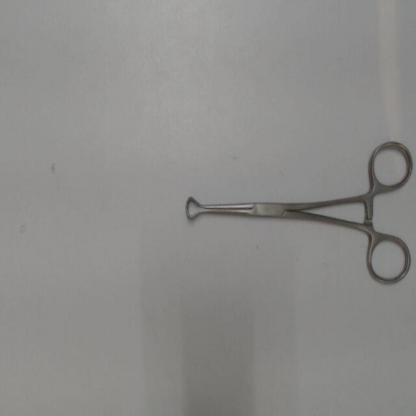Babcock Tissue Forceps: (180, 134, 416, 289)
